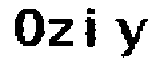0: (12, 8, 46, 50)
i: (83, 5, 103, 52)
y: (114, 17, 148, 60)
z: (47, 17, 76, 49)
